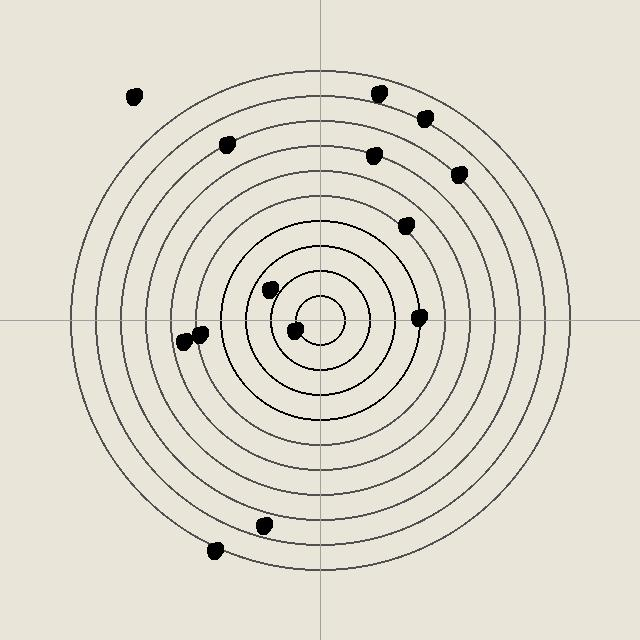random_scatter: (363, 145, 383, 165), (284, 320, 304, 340), (204, 540, 224, 560), (123, 86, 143, 106), (368, 83, 388, 103), (253, 515, 273, 535), (395, 215, 415, 235), (216, 134, 236, 154), (259, 279, 279, 299), (189, 324, 209, 344), (448, 164, 468, 184), (414, 108, 434, 128), (173, 331, 193, 351), (408, 307, 428, 327)
